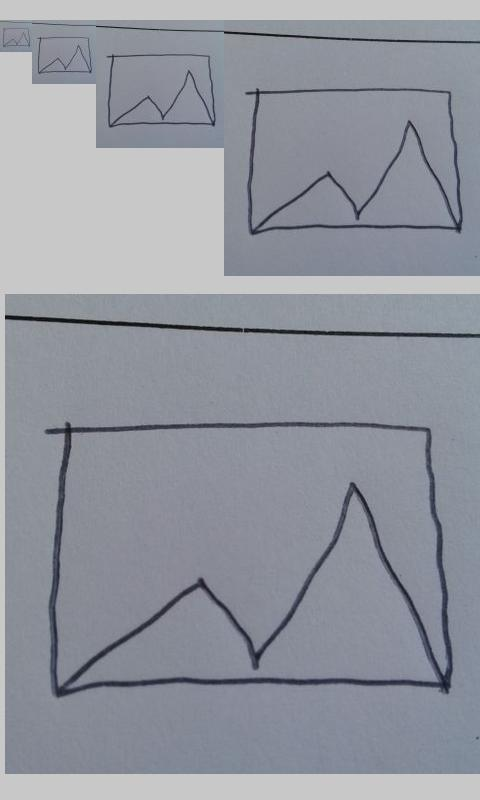image_view: (47, 417, 457, 703), (246, 86, 465, 238), (106, 52, 217, 129), (37, 36, 92, 75), (2, 27, 31, 48)
